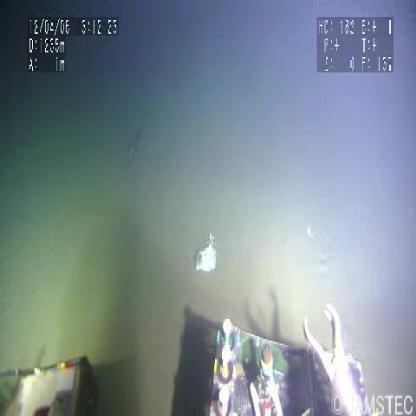Rác: (191, 236, 220, 278)
